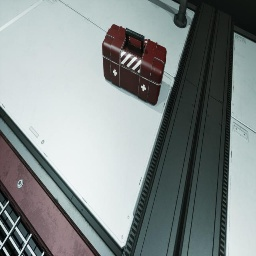FirstAidBox ,: (102, 24, 167, 105)
